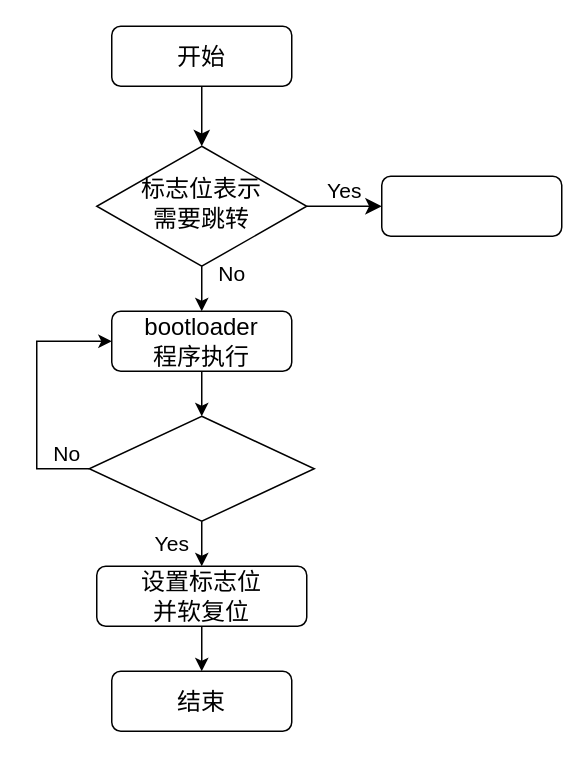
Image size: 588x758. Some labels were removed from this diagram. The shapes that lost their labels are listed below. From the top down, each one's centre as x and y in pixels, then its label:
point (471, 205): 跳转APP
point (201, 468): 固件下载完成？
